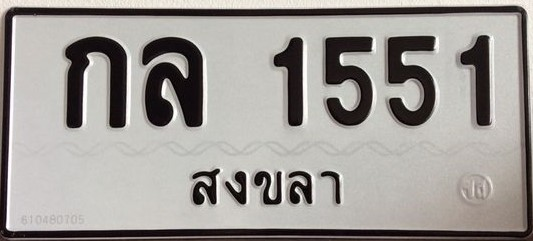txt01: (62, 35, 130, 133)
txt31: (138, 34, 208, 129)
